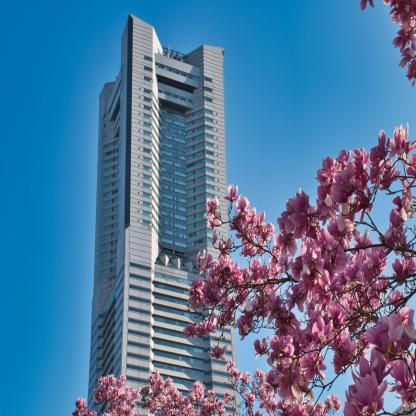Mokuren: (72, 0, 416, 416)
